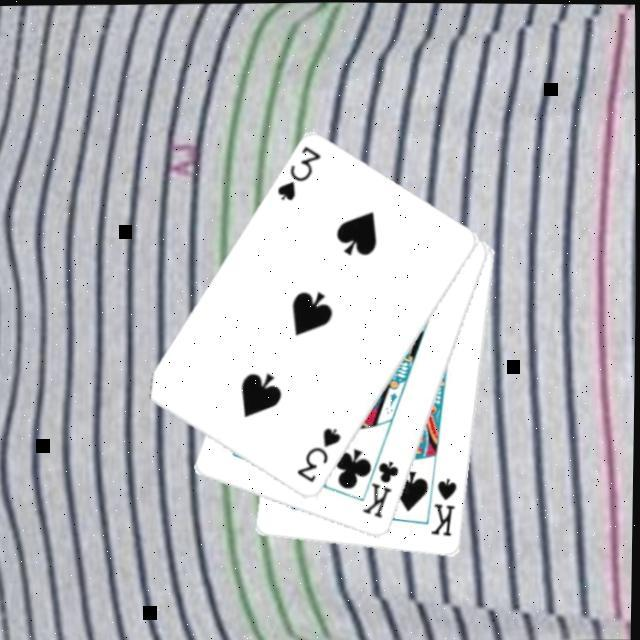3S: (292, 425, 344, 488), (271, 143, 323, 206)
KC: (355, 448, 402, 522)
KS: (427, 476, 461, 542)
